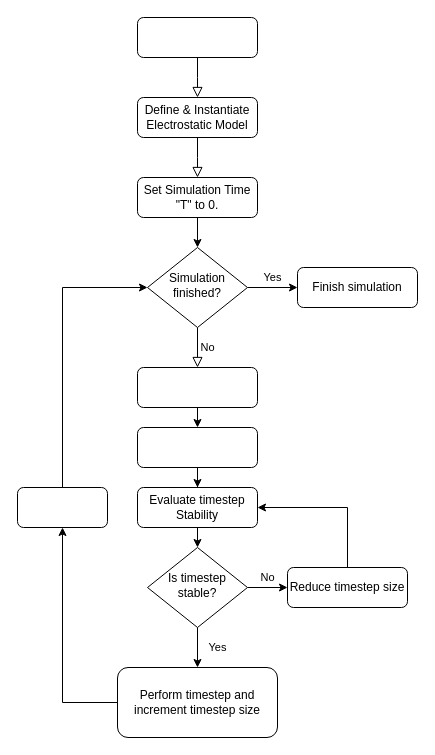
Some shapes in this 435 by 755 pixel diagram are drawn without their labels. Each missing label, with the centre of its shape:
"Calculate Electrostatic Forces" belongs at point (197, 447).
"Calculate internal forces" belongs at point (197, 387).
"Create/Load Model" belongs at point (197, 37).
"Save timestep data" belongs at point (62, 507).
